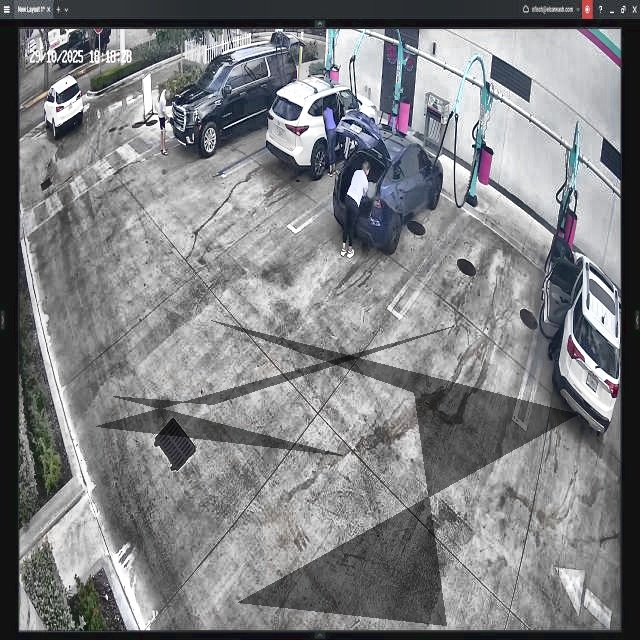Car: (333, 112, 443, 250), (268, 80, 377, 175)
